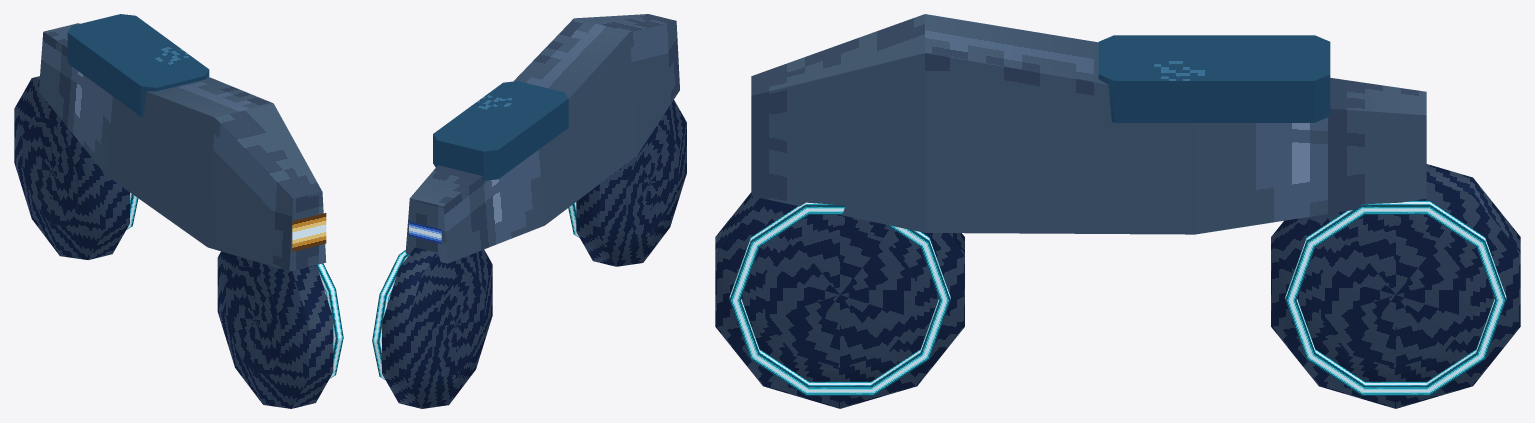
Rendered from cytech.bike.glb.
The picture shows the model from 3 angles, left to right: view 1: azimuth 30°, elevation 25°; view 2: azimuth 150°, elevation 25°; view 3: azimuth 270°, elevation 25°; orthographic projection. The views are drawn at different scales.
Visible parts, largest first — view 1: kit_bike, kit_rims, kit_card_lamps; view 2: kit_bike, kit_rims, kit_card_lamps; view 3: kit_bike, kit_rims.
Part boxes in pixels (bbox=[...]): kit_bike: bbox=[14, 14, 333, 408]; kit_rims: bbox=[126, 192, 343, 378]; kit_card_lamps: bbox=[292, 213, 326, 251]; kit_bike: bbox=[382, 14, 686, 408]; kit_rims: bbox=[372, 202, 579, 379]; kit_card_lamps: bbox=[409, 221, 441, 243]; kit_bike: bbox=[715, 14, 1520, 408]; kit_rims: bbox=[729, 200, 1506, 395].
Size of the model in its own units: 0.32 by 1.05 by 2.09.
Materials: 4 (4 with a texture image).
